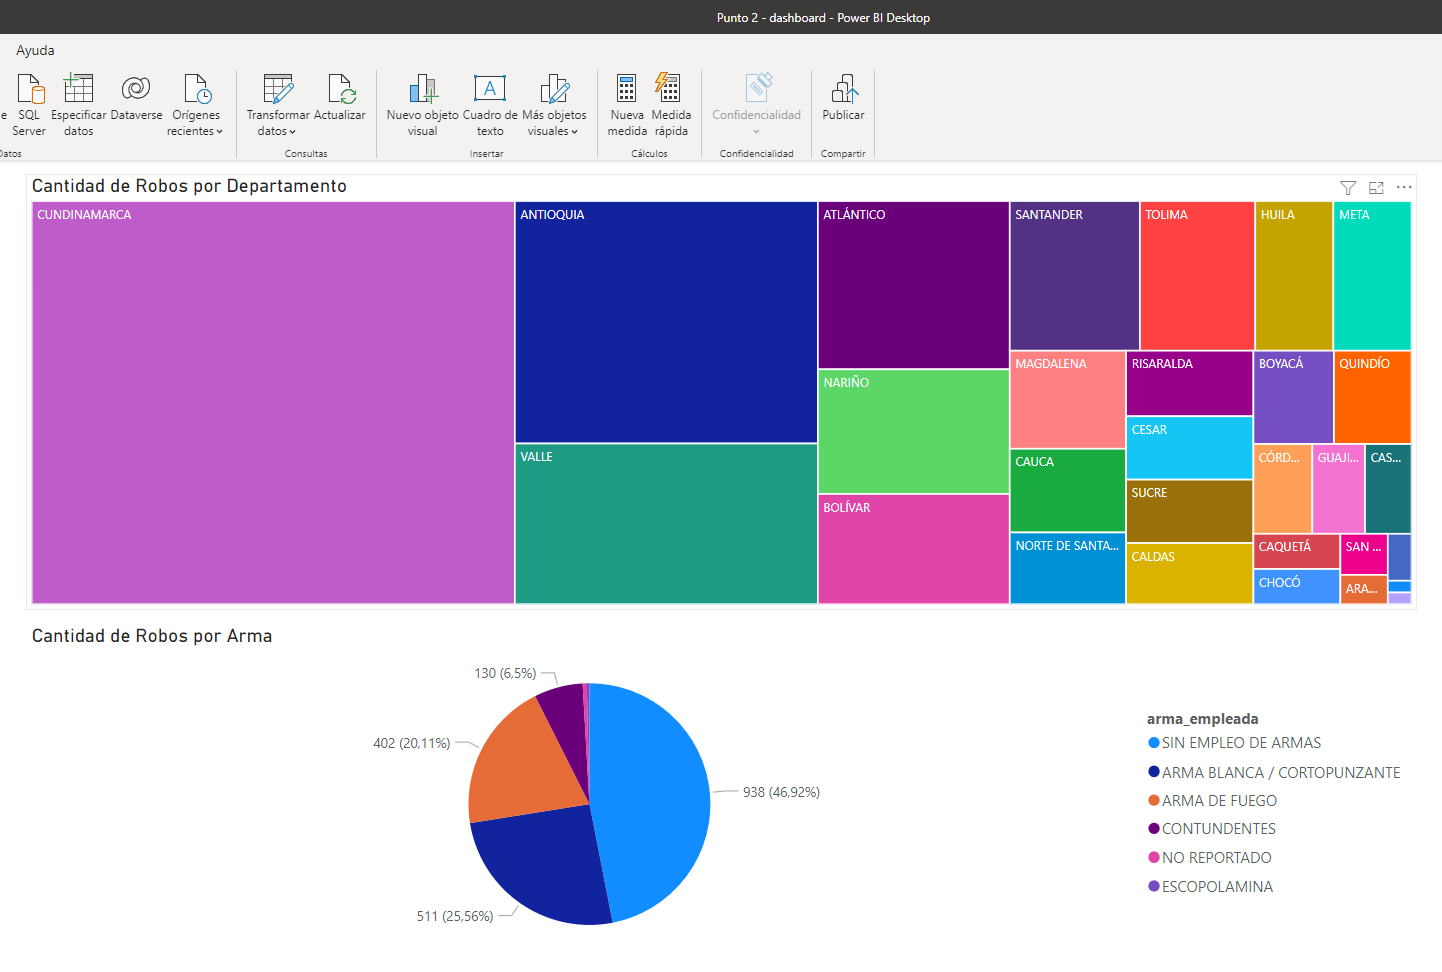

The page's visual inventory and layout, read from the dashboard file:
{"tool":"powerbi","page":{"name":"Página 1","canvas":[1280,720],"ordinal":0},"visuals":[{"type":"treemap","title":"Cantidad de Robos por Departamento","fields":{"Group":["public hurtos.departamento"],"Values":["CountNonNull(public hurtos.departamento)"]},"box":[23.9,12.4,1231.9,386.1],"z":0},{"type":"pieChart","title":"Cantidad de Robos por Arma","fields":{"Y":["CountNonNull(public hurtos.arma_empleada)"],"Category":["public hurtos.arma_empleada"]},"box":[23.9,410.9,1231.9,300.2],"z":1}]}

Visuals, with their boxes on the page's 1280x720 design canvas (x1, y1, x2, y2). These are canvas units, not pixel positions in the 1442x972 screenshot, which may show the page scaled, cropped or inside an application window:
"Cantidad de Robos por Departamento" treemap: region(24, 12, 1256, 398)
"Cantidad de Robos por Arma" pieChart: region(24, 411, 1256, 711)
